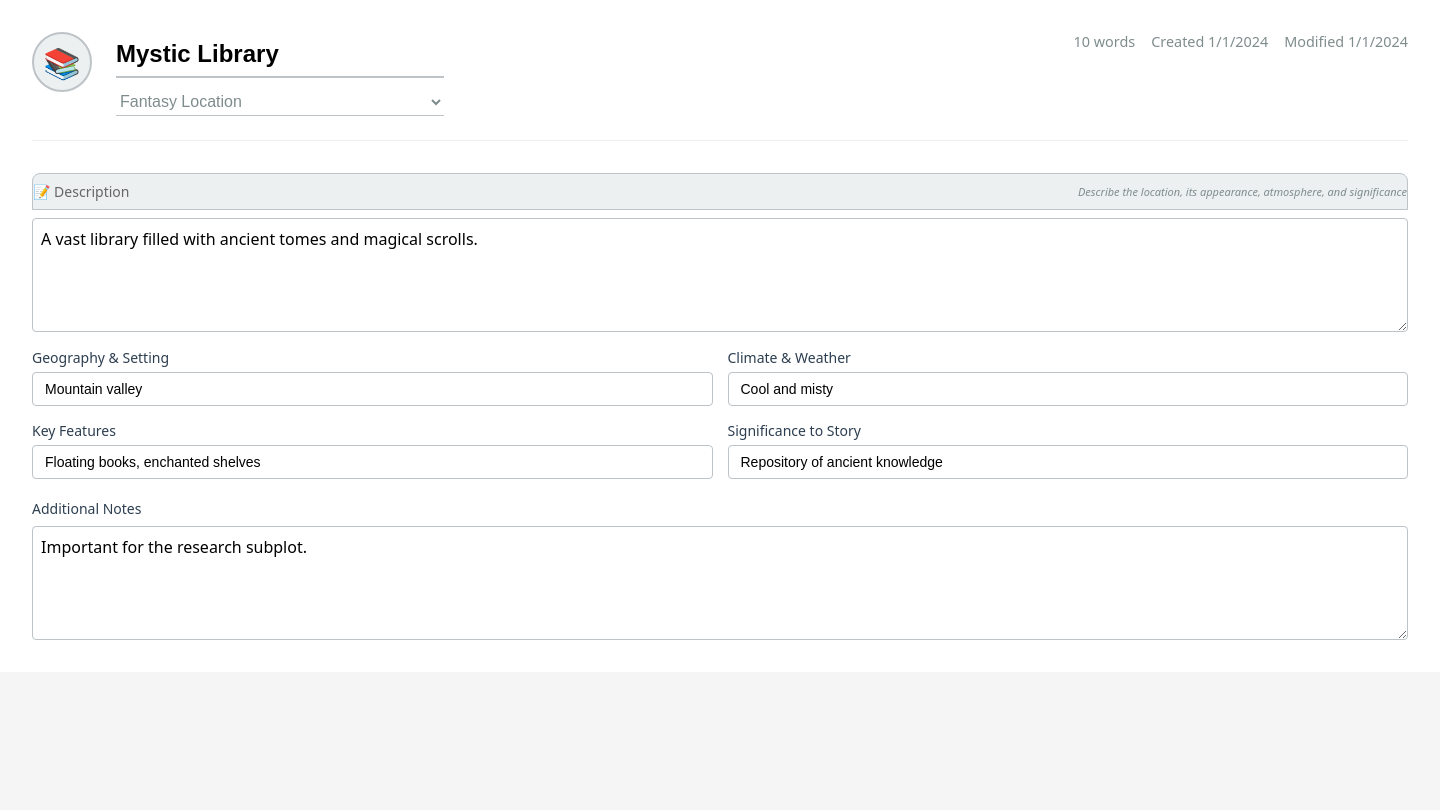
Scenario: LocationEditor Component › closes icon dropdown after selecting icon
The image size is (1440, 810).
Click the text "📚" at (62, 62), box x1=32 y1=32 x2=92 y2=92
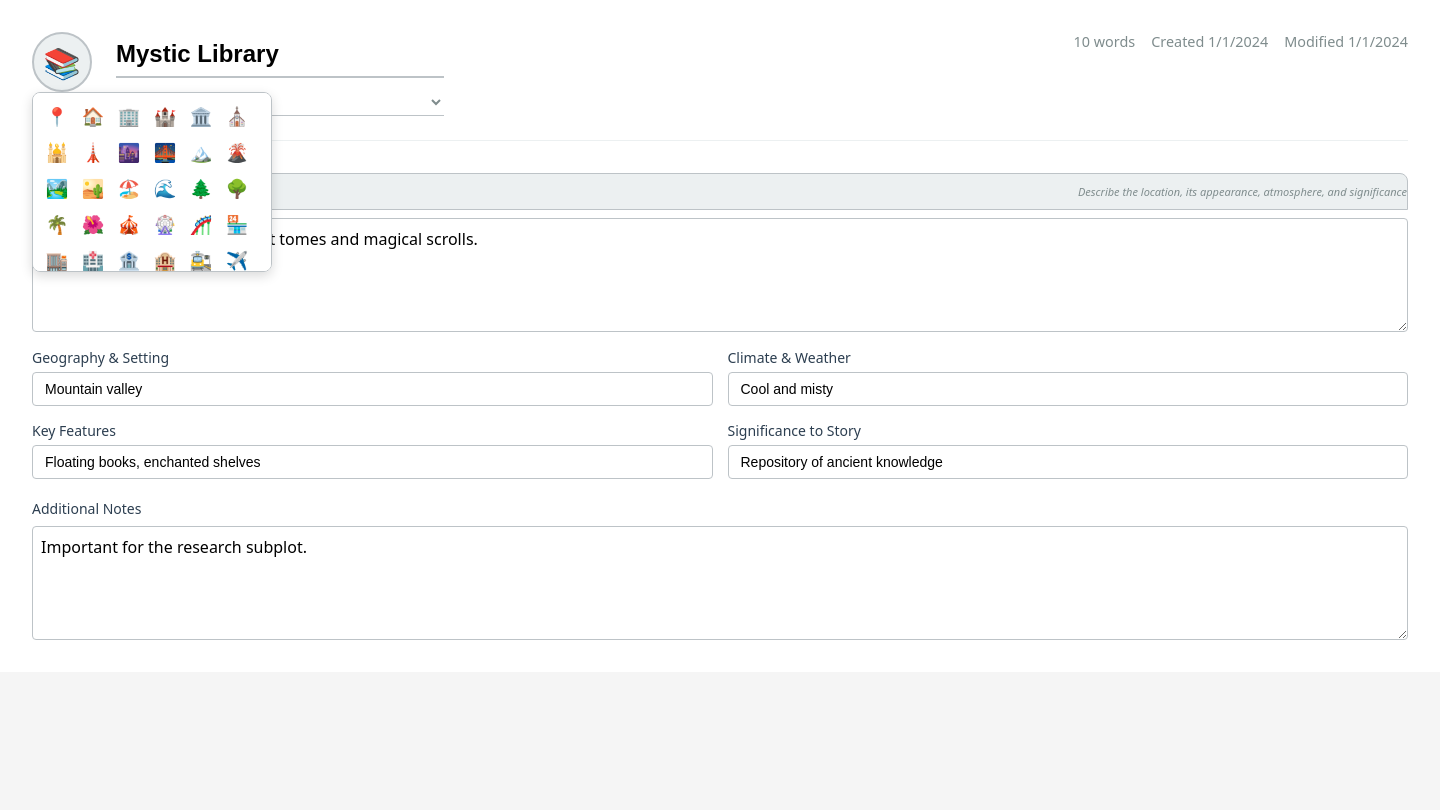
Click the button "🏰" at (165, 117), box x1=149 y1=101 x2=181 y2=133
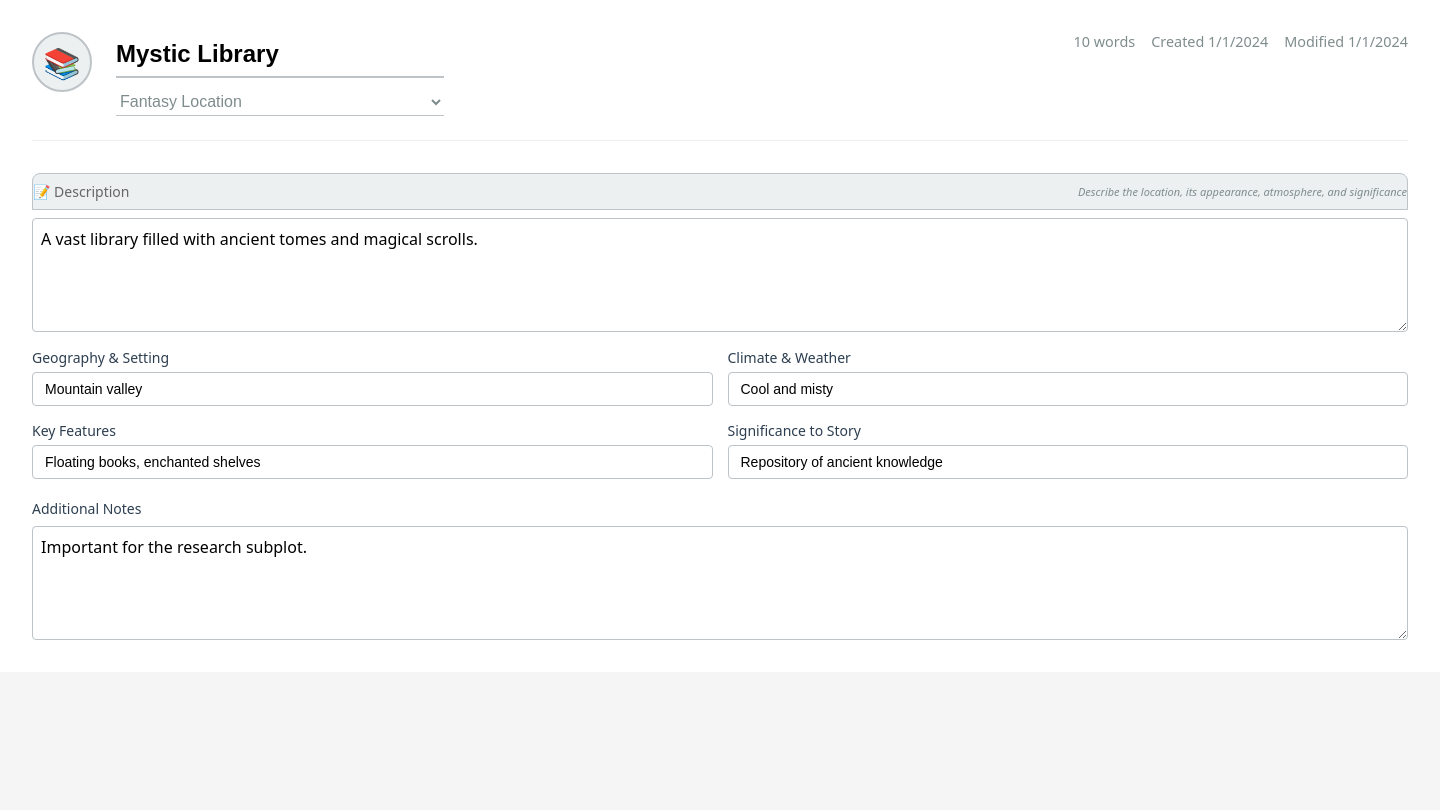
Result: the button "📍" is gone
